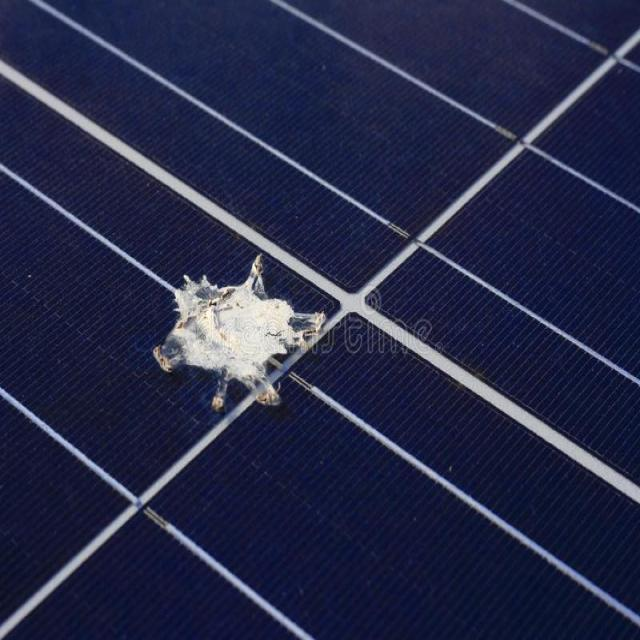soiled: (5, 103, 640, 633)
